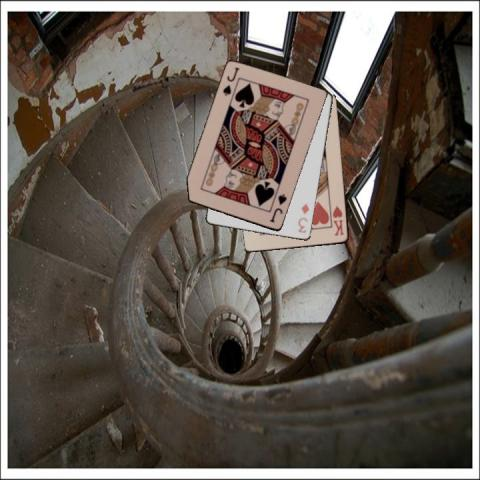3d: (295, 200, 311, 234)
Js: (267, 191, 288, 224), (220, 65, 241, 97)
Kh: (330, 204, 346, 237)
